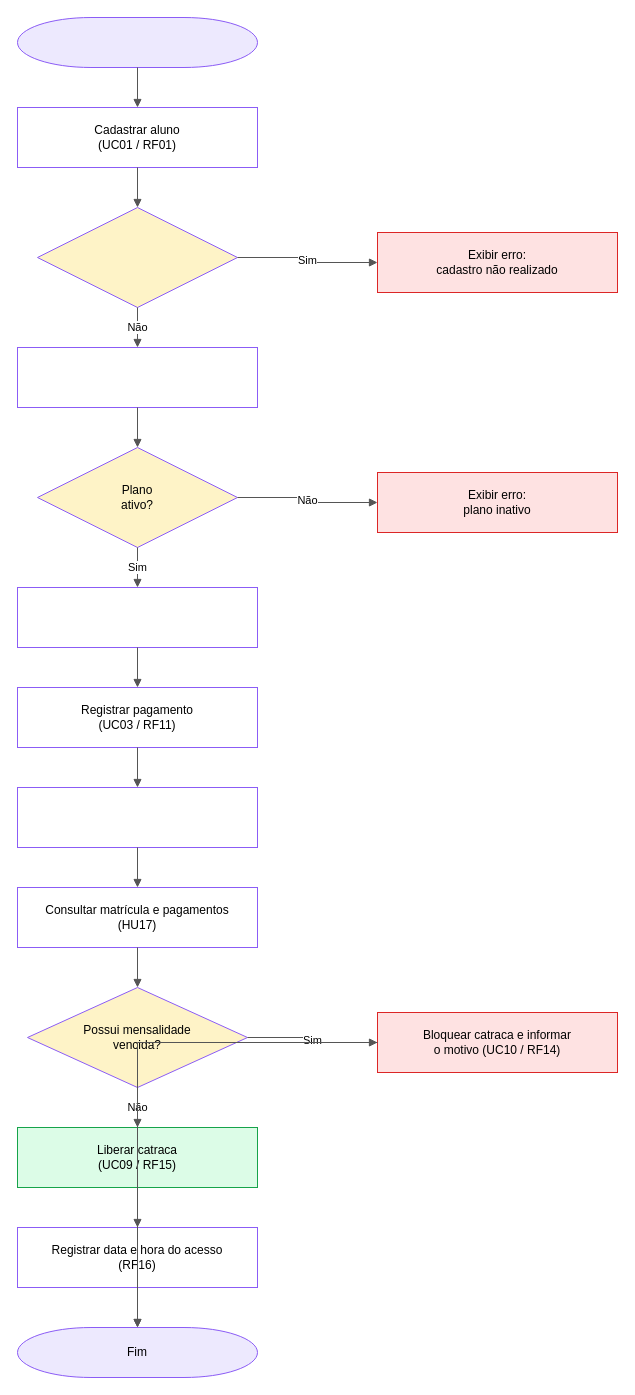
Some shapes in this 635 by 1395 pixel diagram are drawn without their labels. Each missing label, with the centre of its shape:
"Aluno se identifica na catraca (UC09 / UC10)" belongs at pixel 137 817.
"CPF já cadastrado?" belongs at pixel 137 257.
"Gerar mensalidades (RF10)" belongs at pixel 137 617.
"Início" belongs at pixel 137 42.
"Realizar matrícula (UC02 / RF09)" belongs at pixel 137 377.
